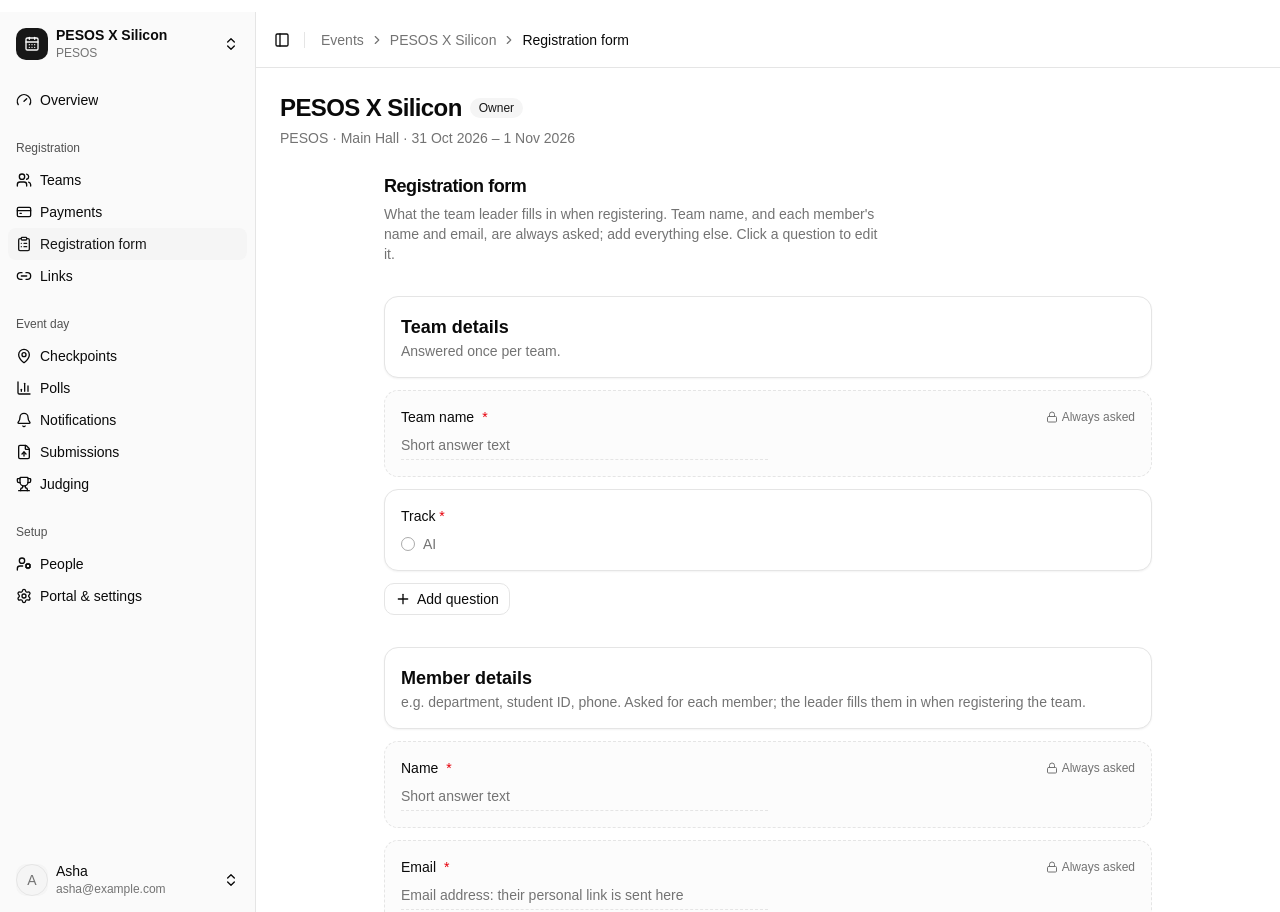
Test: registration form builder › has no team minimums on team questions
What coordinates should you click on to do the following:
click the button named "Edit Track"
I would click on:
 (418, 516)
Its box is [384,489,1152,571].
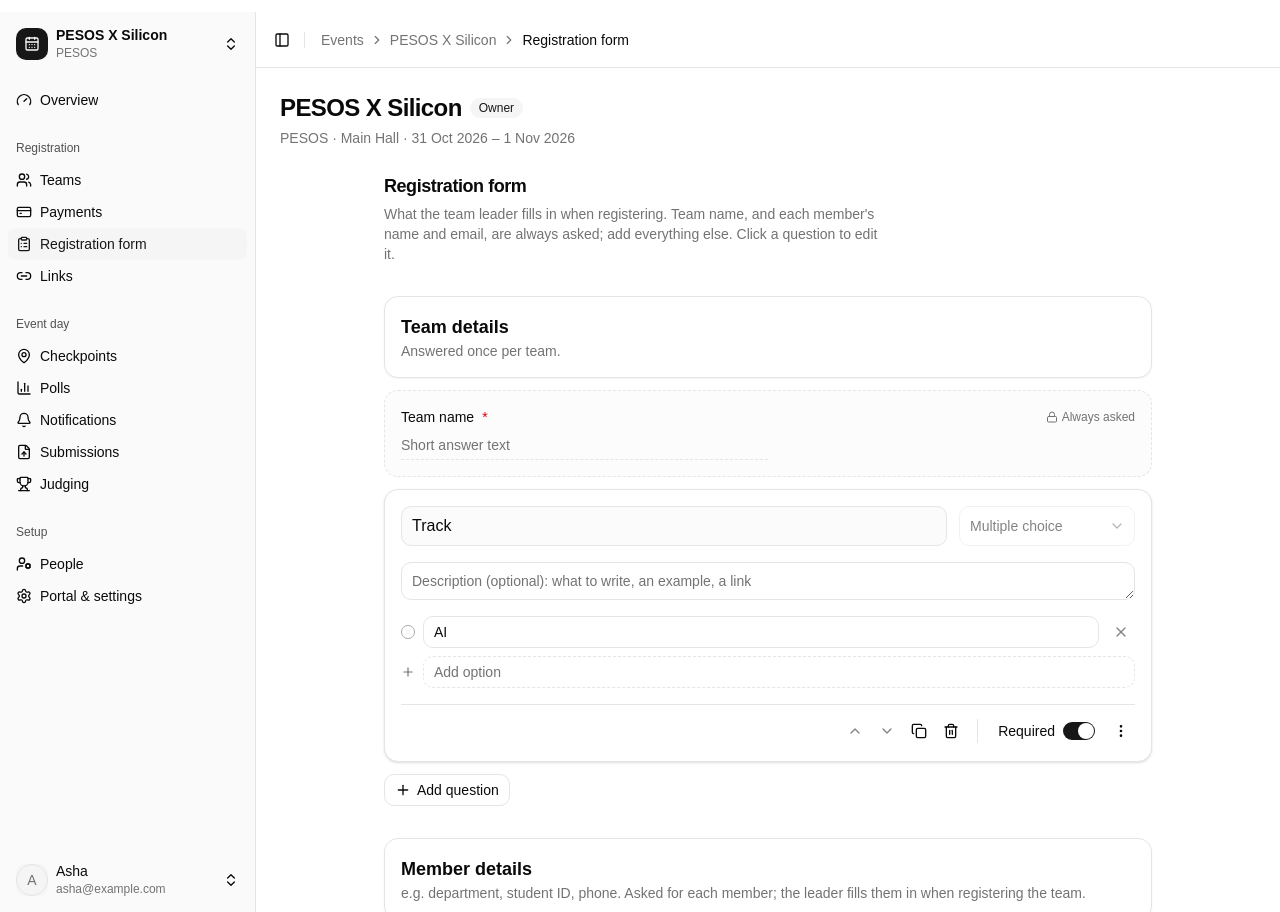
Result: the field named "Option 1" holds "AI" at [423,616,1099,648]
